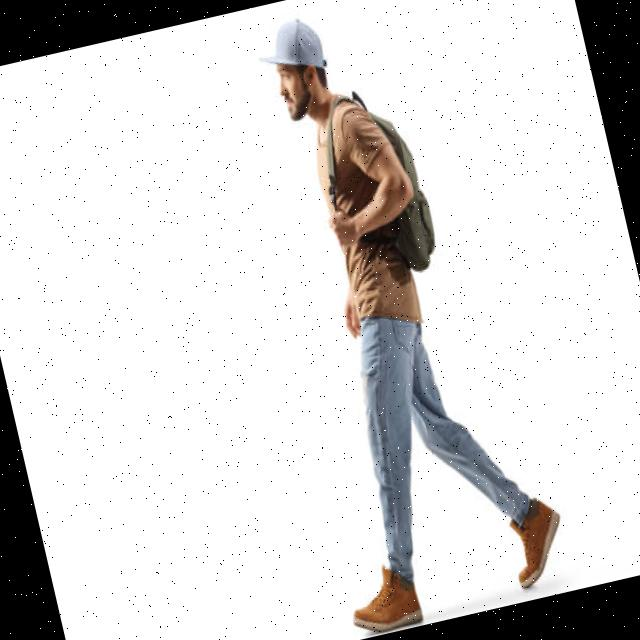Person: (220, 0, 575, 636)
